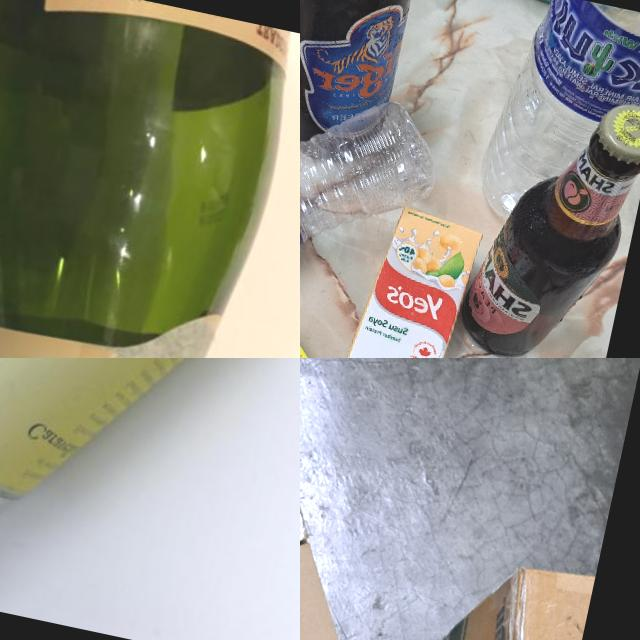caixinha: (329, 202, 482, 358)
garrafa de vidro: (0, 0, 300, 358), (0, 358, 300, 640), (451, 79, 640, 358), (300, 0, 421, 158)
garrafa plástica: (465, 0, 640, 254), (300, 51, 441, 320)
papelão: (300, 358, 503, 640), (382, 545, 595, 640)
